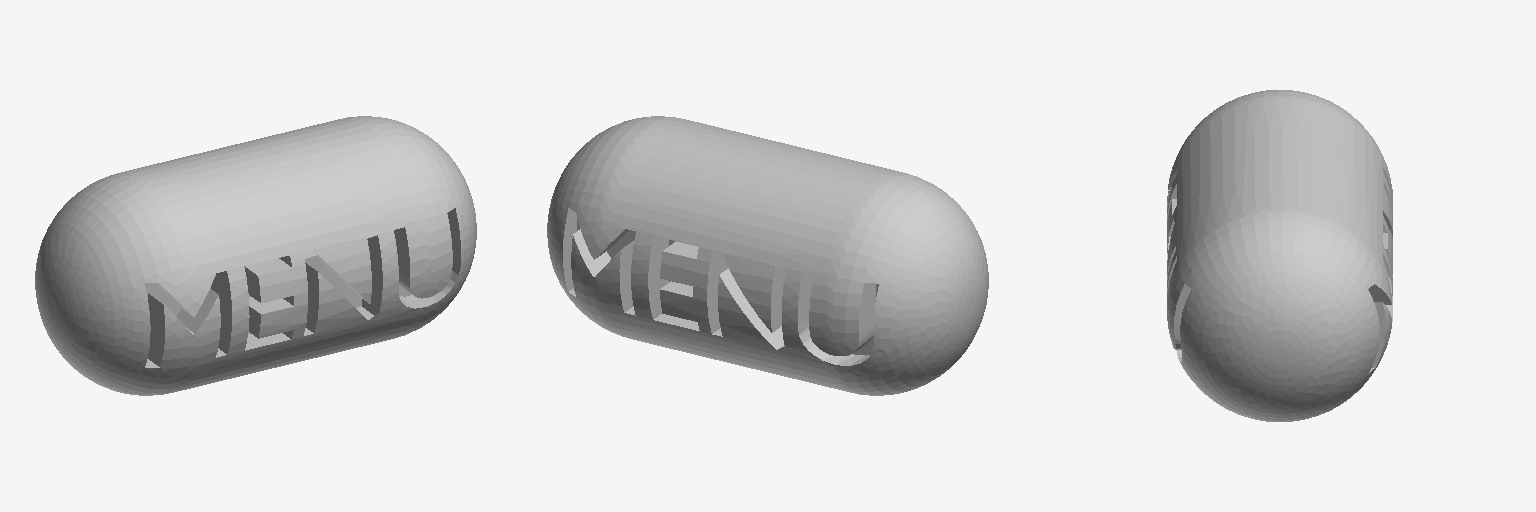
Rendered from Pill_001.obj.
3 renders of one model, left to right at view 1: azimuth 30°, elevation 25°; view 2: azimuth 150°, elevation 25°; view 3: azimuth 270°, elevation 25°, orthographic.
Parts seen in each view (by area): view 1: Pill.001; view 2: Pill.001; view 3: Pill.001.
Boxes of the visible parts, x1=… form: Pill.001: x1=35, y1=116, x2=476, y2=395; Pill.001: x1=547, y1=116, x2=988, y2=395; Pill.001: x1=1167, y1=90, x2=1392, y2=421.
Bounding box in the file's own units: 3.37 × 1.62 × 1.62.